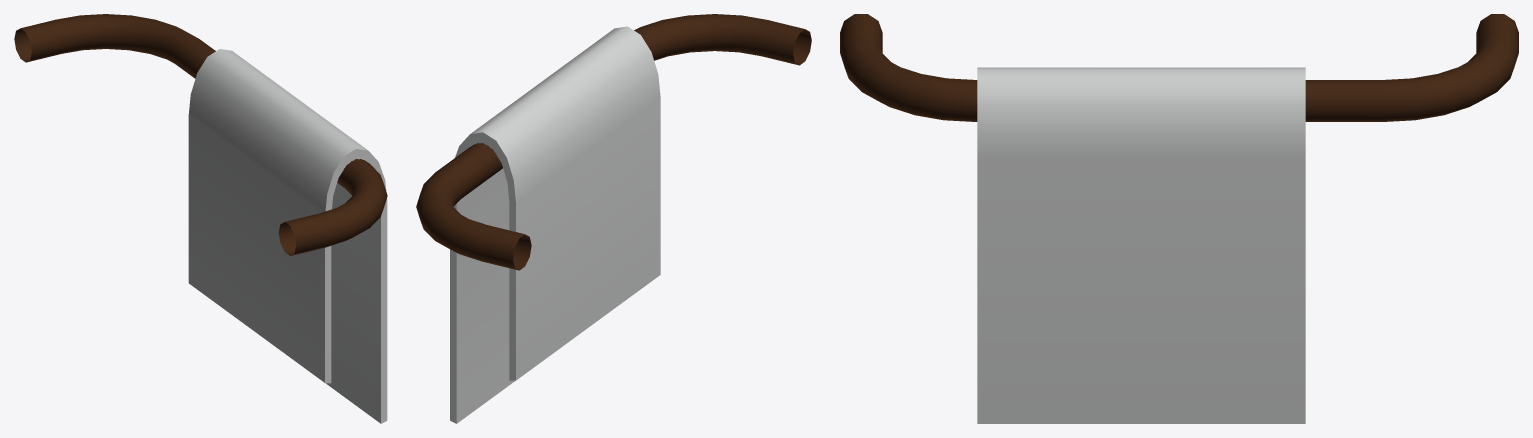
The model's file is PorteServiette1.fbx.
3 renders of one model, left to right at view 1: azimuth 30°, elevation 25°; view 2: azimuth 150°, elevation 25°; view 3: azimuth 270°, elevation 25°, orthographic. The views are drawn at different scales.
Visible parts, largest first — view 1: PorteServiette1; view 2: PorteServiette1; view 3: PorteServiette1.
Boxes of the visible parts, x1,y1,x2,y2 form: PorteServiette1: [14, 14, 387, 423]; PorteServiette1: [416, 14, 811, 423]; PorteServiette1: [840, 14, 1518, 423].
Bounding box in the file's own units: 17.27 × 31.37 × 57.01.
